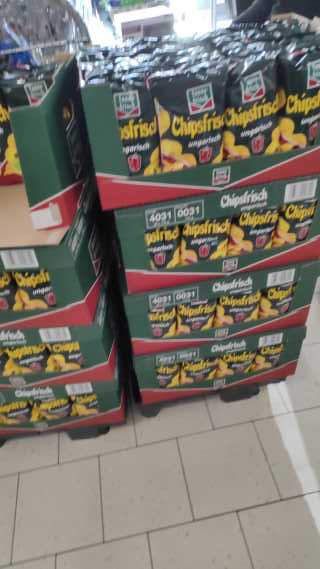chipsfrisch: (154, 65, 229, 168), (227, 59, 280, 157), (280, 48, 320, 166), (227, 210, 275, 262), (181, 219, 225, 263), (219, 289, 260, 325), (176, 300, 214, 337)
